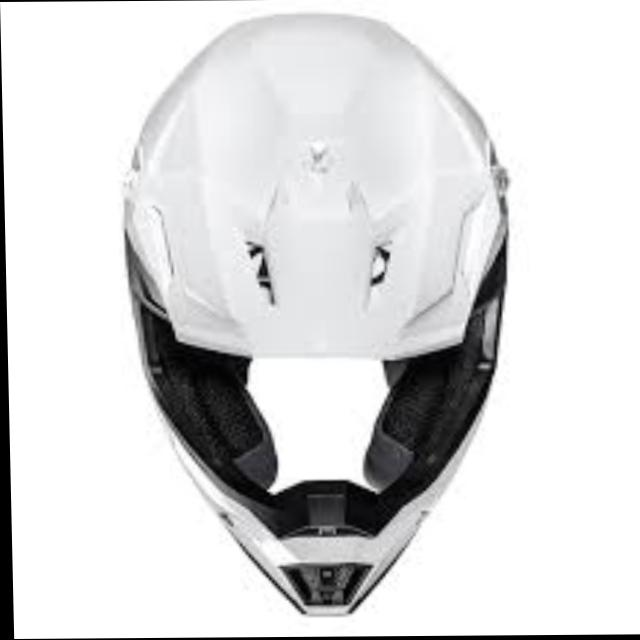motorcycle-helmets: (123, 13, 508, 613)
